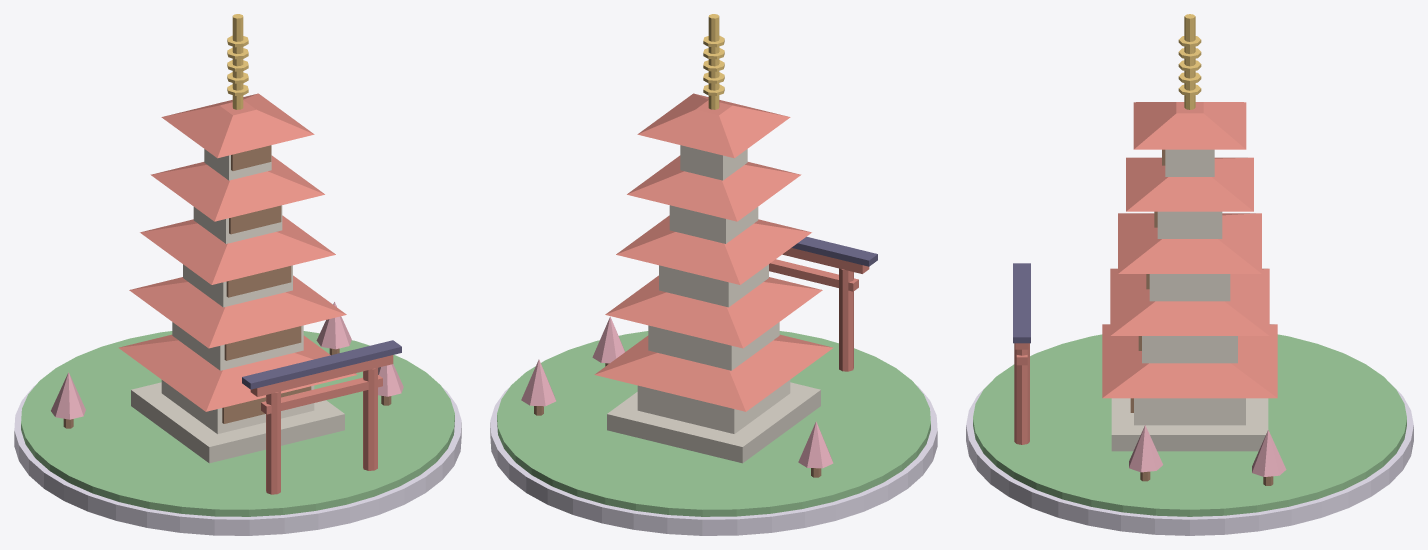
Rendered from pagoda.glb.
3 renders of one model, left to right at view 1: azimuth 30°, elevation 25°; view 2: azimuth 150°, elevation 25°; view 3: azimuth 270°, elevation 25°, orthographic.
Visible parts, largest first — view 1: pagoda; view 2: pagoda; view 3: pagoda.
Boxes of the visible parts, left/top/right/bottom form: pagoda: left=14, top=14, right=461, bottom=535; pagoda: left=490, top=14, right=937, bottom=535; pagoda: left=966, top=14, right=1413, bottom=535.
Bounding box in the file's own units: 2 × 2.1 × 2.
1 material, 1 textured.
